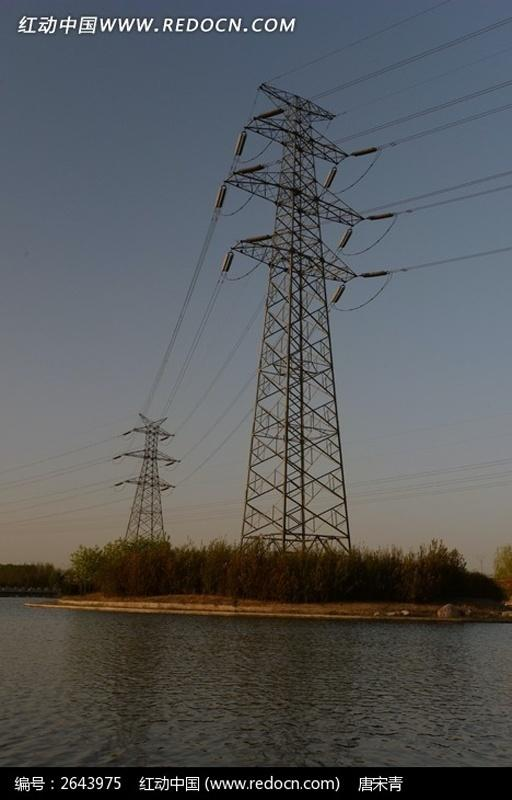power_tower: (224, 80, 355, 541), (103, 399, 174, 535)
